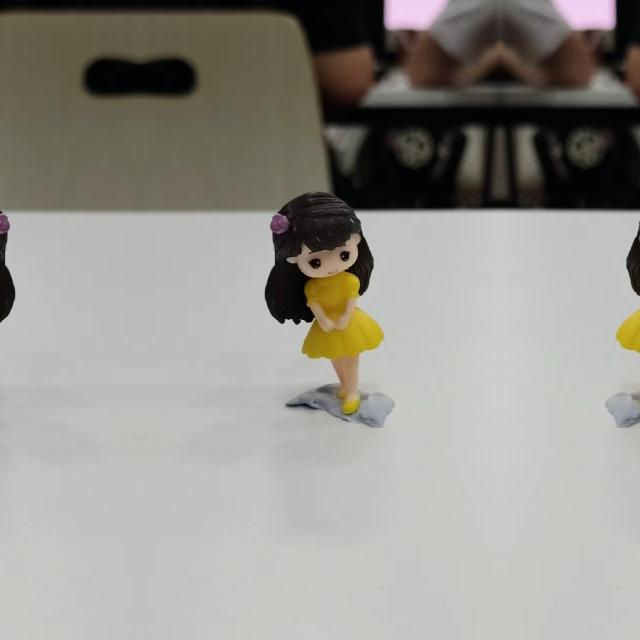woman head: (260, 186, 368, 280), (0, 186, 20, 280), (632, 186, 640, 280)
